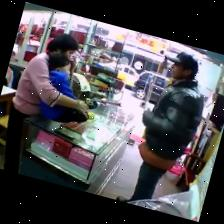person: (116, 52, 202, 202), (3, 34, 86, 172), (48, 53, 75, 99)
